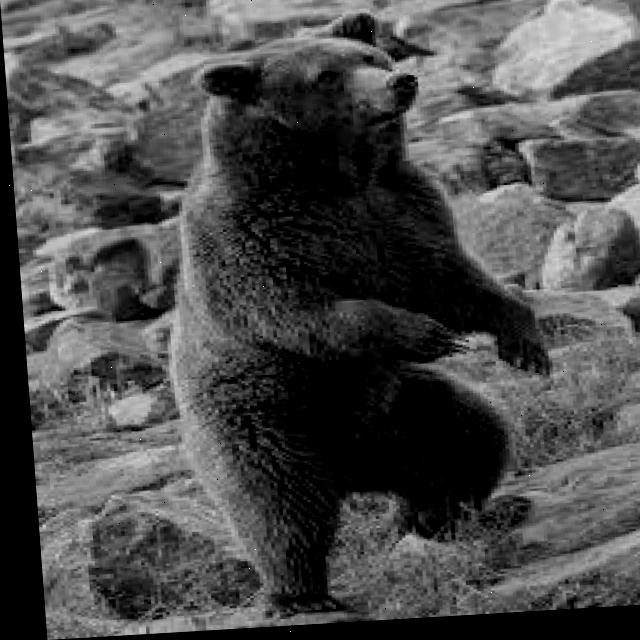Bear: (174, 13, 534, 594)
